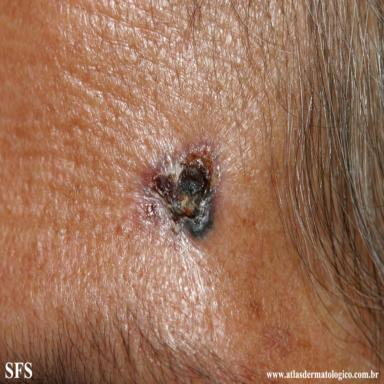basal-cell-carcinoma: (139, 137, 223, 241)
